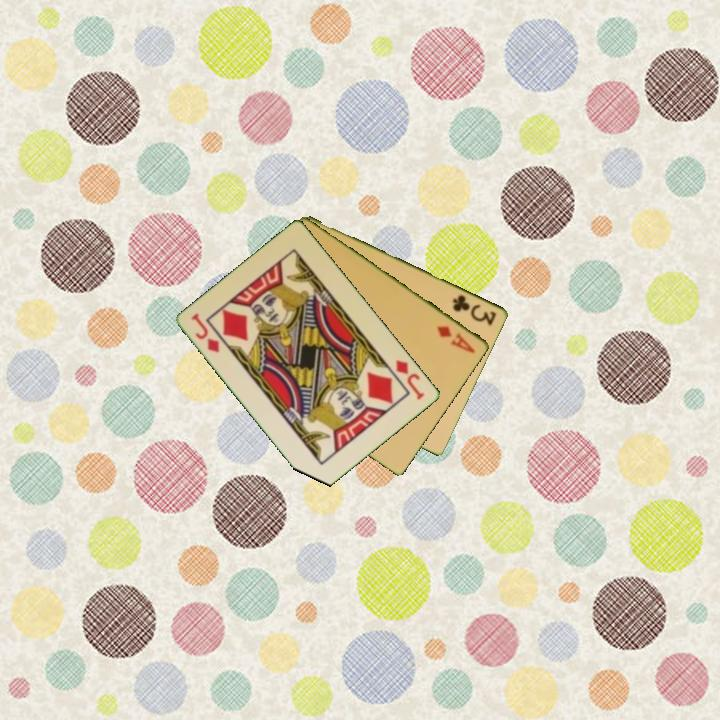3c: (449, 291, 500, 329)
Ad: (433, 322, 478, 356)
Jd: (392, 356, 428, 403), (188, 309, 223, 356)
